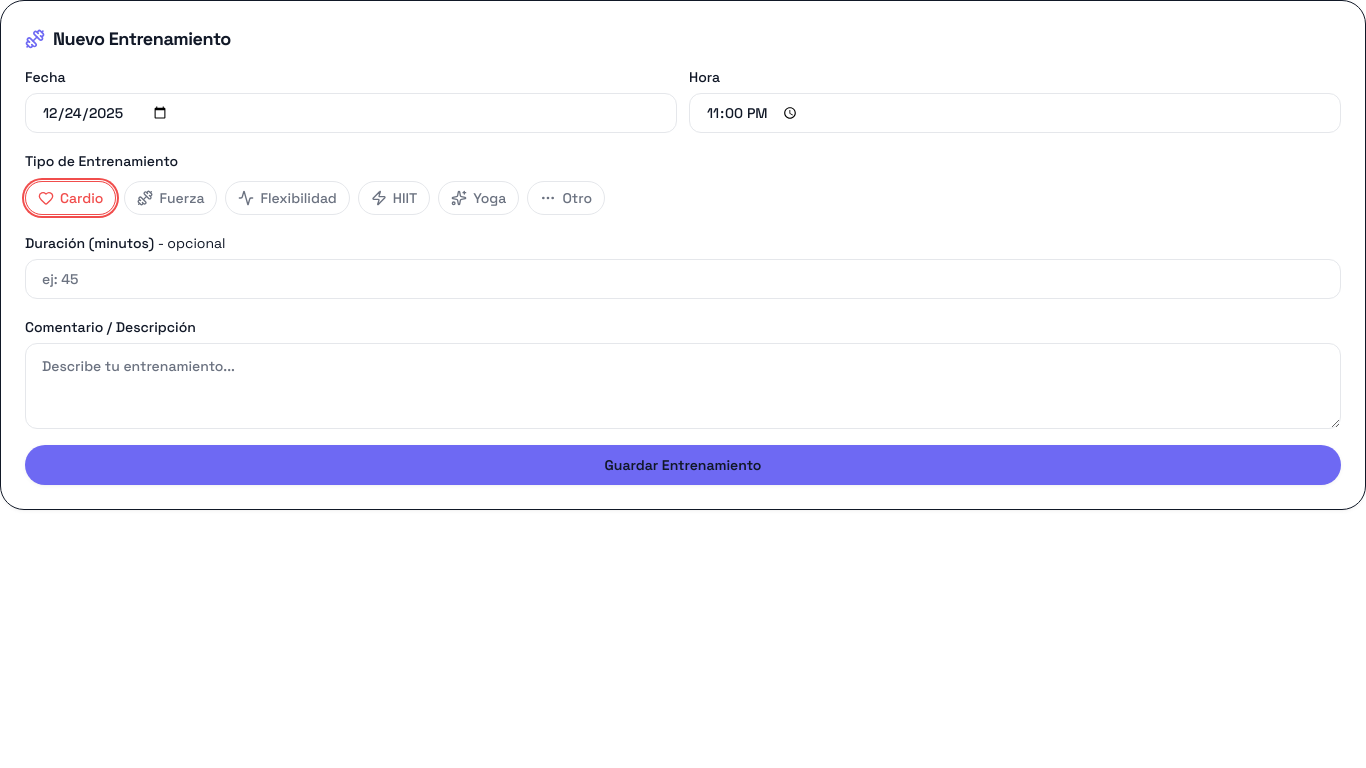
TrainingEntryForm › validates required fields
This screenshot has width=1366, height=768.
Click the button "Guardar Entrenamiento": (683, 465) x1=25 y1=445 x2=1341 y2=485
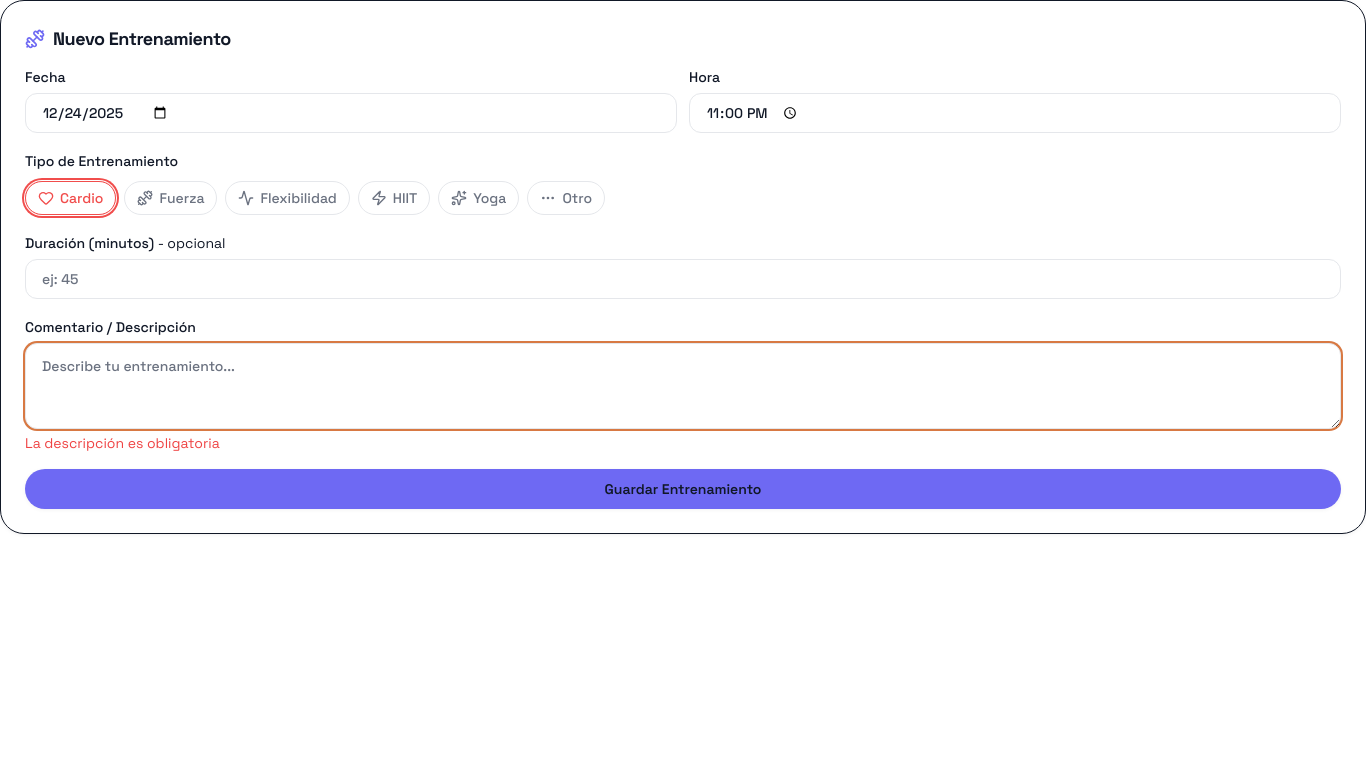
Expected: the text "La descripción es obligatoria" is shown, x1=25 y1=434 x2=220 y2=452
